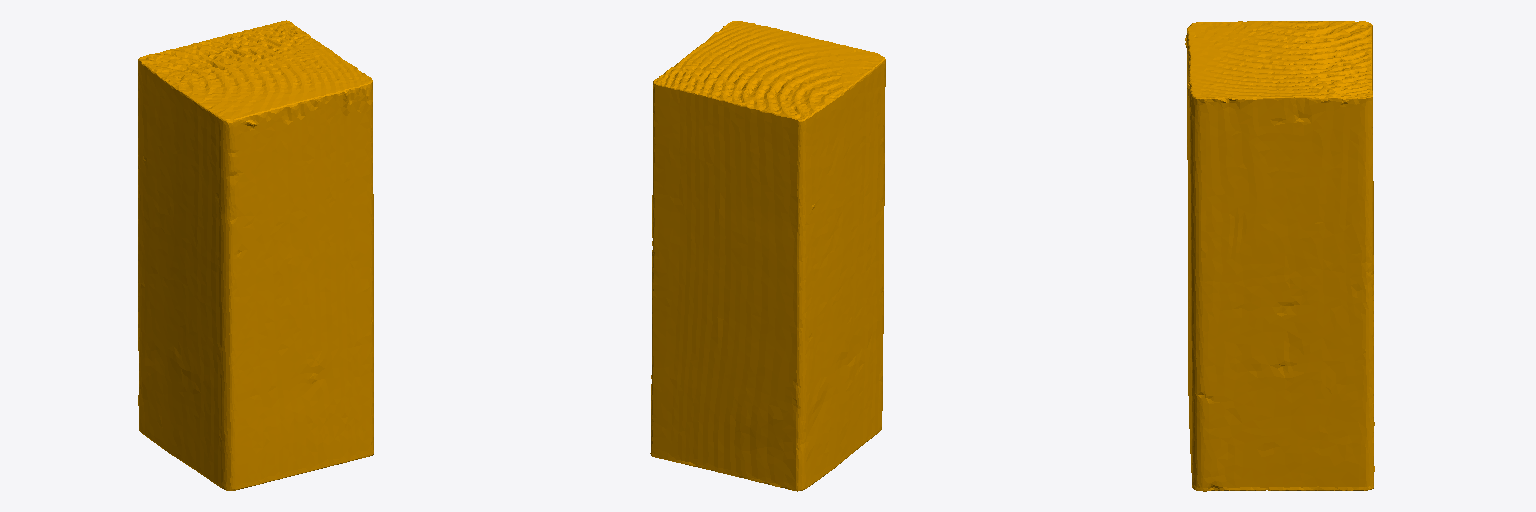
The robot description file, URDF, robot "model.urdf":
<?xml version="1.0" ?>
<robot name="model.urdf">
<link name="ycb">
<visual>
<origin rpy="0 0 0" xyz="0 0 0"/>
<geometry>
<mesh filename="meshes/textured_modified.obj" scale="1 1 1"/>
</geometry>
</visual>
<collision>
<origin rpy="0 0 0" xyz="0 0 0"/>
<geometry>
<mesh filename="meshes/textured_modified.obj" scale="1 1 1"/>
</geometry>
</collision>
<inertial>
<origin rpy="0 0 0" xyz="0 0 0"/>
       <mass value="0.729"/>
<inertia ixx="1" ixy="0" ixz="0" iyy="1" iyz="0" izz="1"/>
</inertial>
<contact>
<lateral_friction value="0.5"/>
<rolling_friction value="0.0"/>
<contact_cfm value="0.0"/>
<contact_erp value="1.0"/>
</contact>
</link>
</robot>

--- Render facts (derived) ---
The picture shows the robot from 3 angles, left to right: view 1: azimuth 30°, elevation 25°; view 2: azimuth 150°, elevation 25°; view 3: azimuth 270°, elevation 25°; orthographic projection.
Model model.urdf with 1 links and 0 joints (none), rooted at ycb, posed every joint at zero.
Links seen in each view (by area): view 1: ycb; view 2: ycb; view 3: ycb.
Boxes of the visible links, left/top/right/bottom form: ycb: left=138, top=20, right=373, bottom=490; ycb: left=650, top=21, right=885, bottom=491; ycb: left=1185, top=21, right=1374, bottom=491.
Bounding box of the posed robot: 0.0911 × 0.0901 × 0.206 m (x, y, z).
Meshes: 1 distinct files referenced, 1 mesh visuals loaded (1 OBJ).